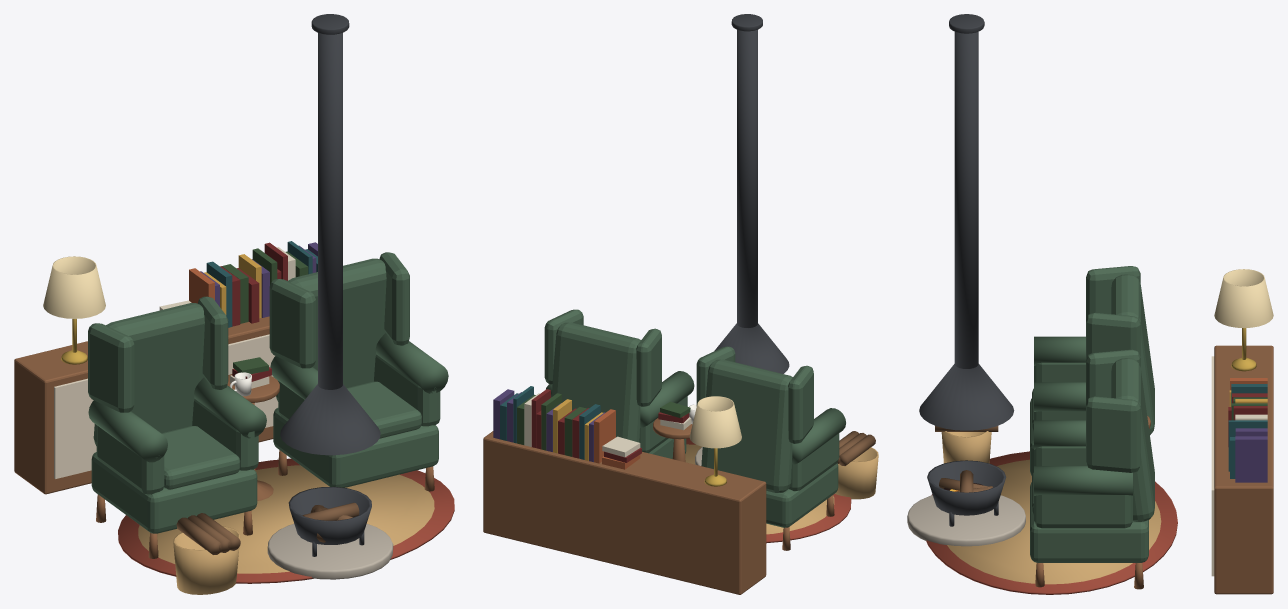
Rendered from firesideLounge.glb.
3 renders of one model, left to right at view 1: azimuth 30°, elevation 25°; view 2: azimuth 150°, elevation 25°; view 3: azimuth 270°, elevation 25°, orthographic. The views are drawn at different scales.
Visible parts, largest first — view 1: body; view 2: body; view 3: body.
Part boxes in pixels (x1,y1,x2,y2): body: [14, 14, 454, 594]; body: [483, 14, 878, 594]; body: [907, 14, 1273, 594].
Size of the model in its own units: 1.7 by 2.8 by 1.85.
